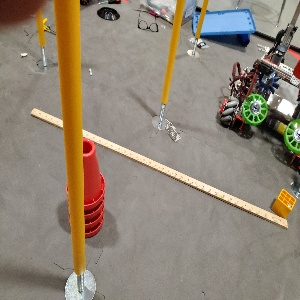Red_4: (65, 136, 105, 237)
